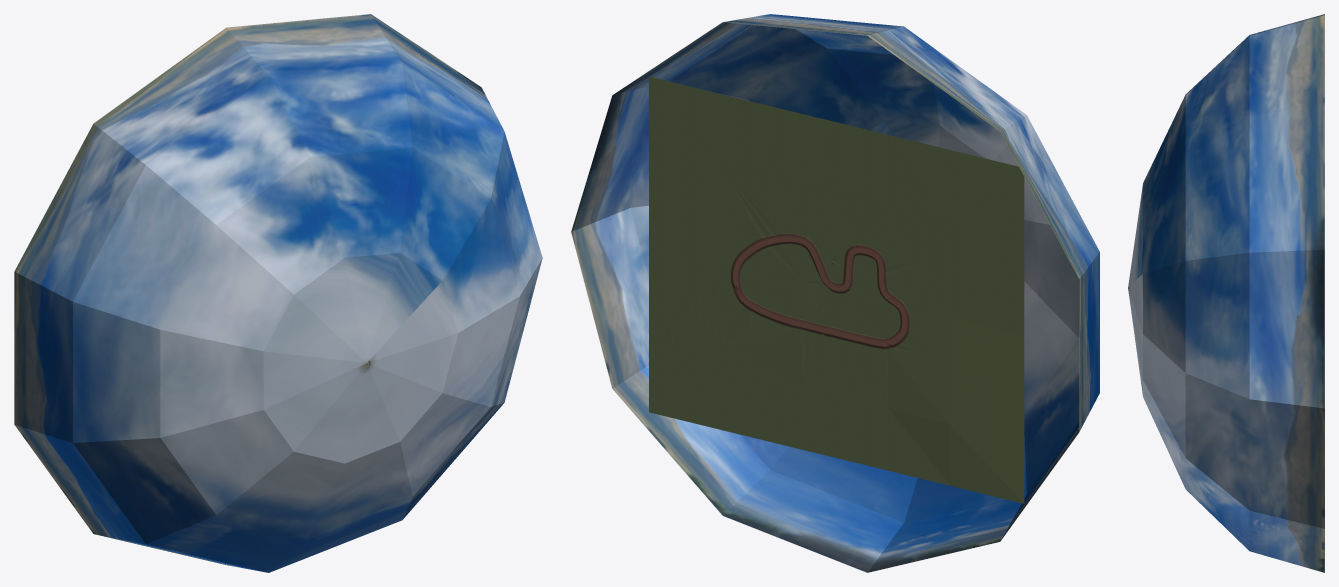
Rendered from Dawnofthederby_wtf.obj.
The picture shows the model from 3 angles, left to right: view 1: azimuth 30°, elevation 25°; view 2: azimuth 150°, elevation 25°; view 3: azimuth 270°, elevation 25°; orthographic projection. The views are drawn at different scales.
Visible parts, largest first — view 1: group6; view 2: group9, group6, group8, group7; view 3: group6.
Boxes of the visible parts, bbox=[...] form: group6: bbox=[14, 14, 542, 572]; group9: bbox=[649, 76, 1024, 503]; group6: bbox=[571, 14, 1099, 572]; group8: bbox=[730, 233, 910, 349]; group7: bbox=[733, 236, 907, 346]; group6: bbox=[1128, 14, 1324, 572].
Bounding box in the file's own units: 653 × 660 × 230.
